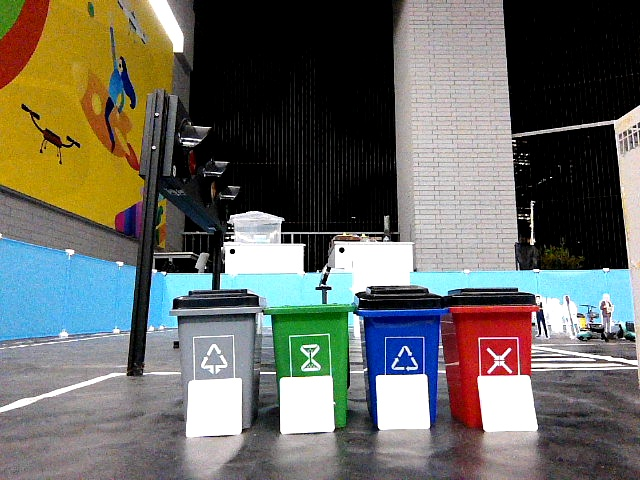blue_close: (362, 285, 435, 369)
green_open: (275, 305, 345, 374)
grey_close: (179, 289, 256, 375)
red_close: (450, 288, 529, 374)
